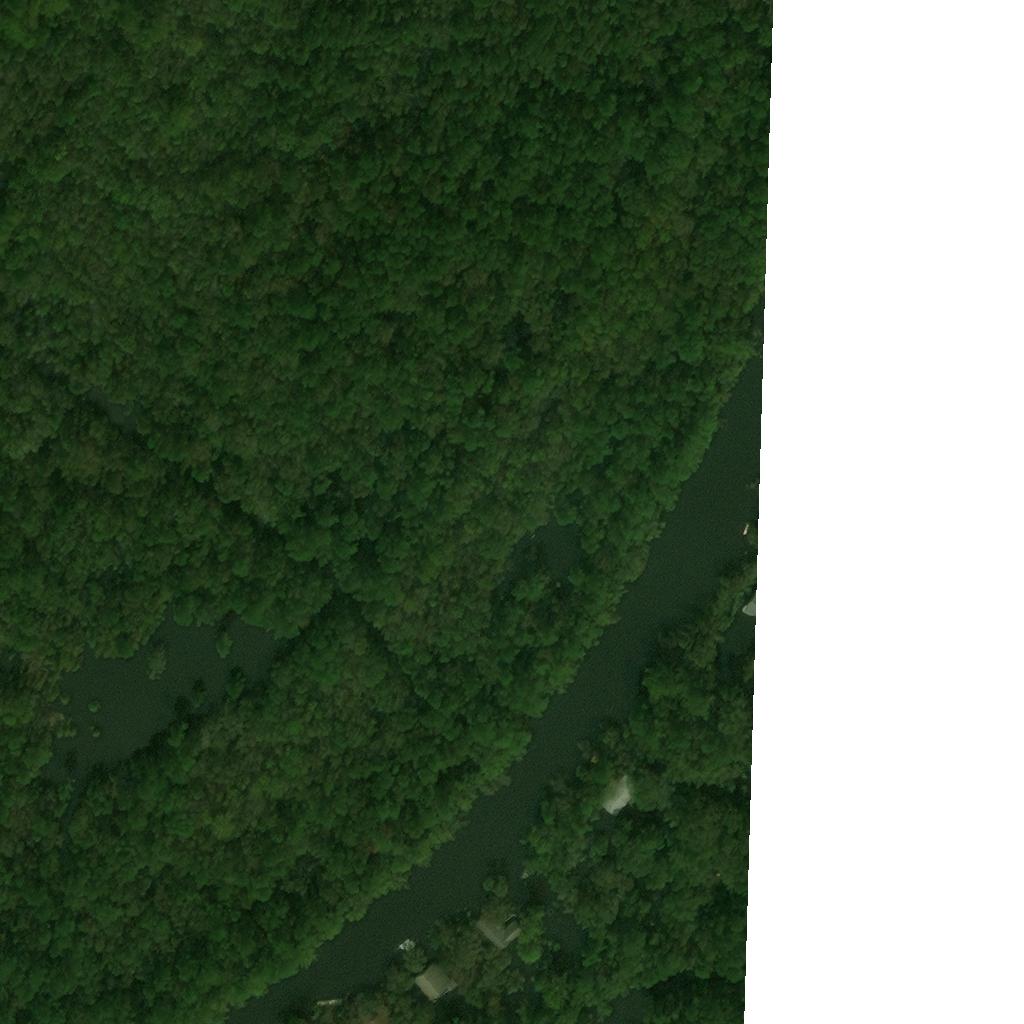major_damage: (470, 904, 528, 951), (592, 769, 641, 816), (408, 959, 458, 1003), (352, 993, 395, 1023), (740, 581, 761, 620)
